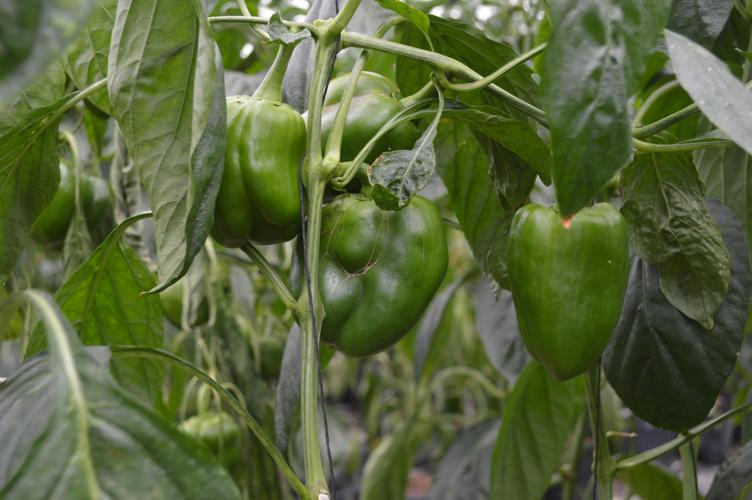BellPepper: (508, 194, 631, 382), (307, 189, 438, 364), (171, 94, 308, 251), (300, 64, 424, 172), (32, 159, 131, 259)
